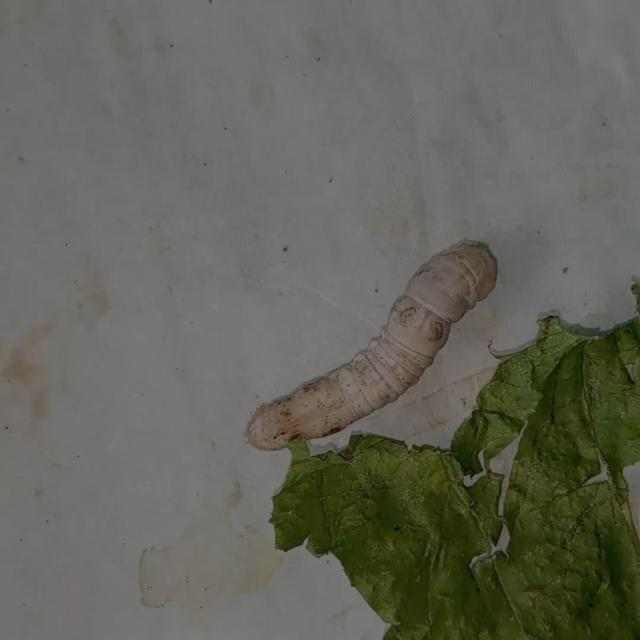Grasserie: (202, 206, 518, 477)
